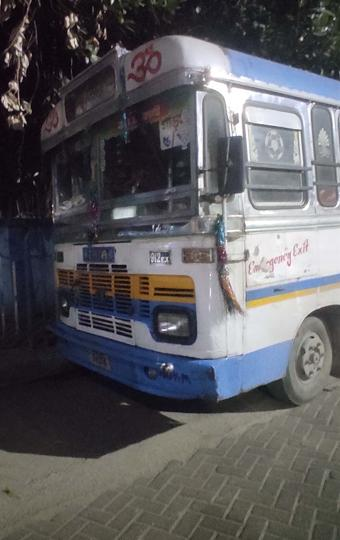Bus: (26, 29, 340, 425)
